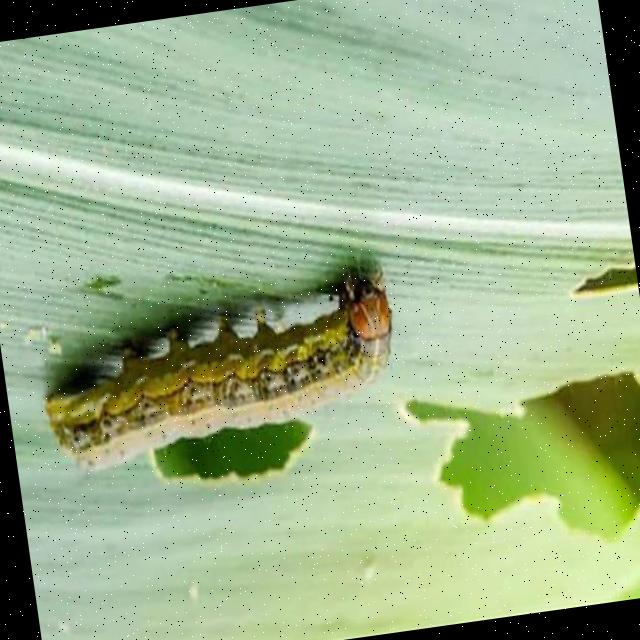worm: (33, 264, 411, 480)
